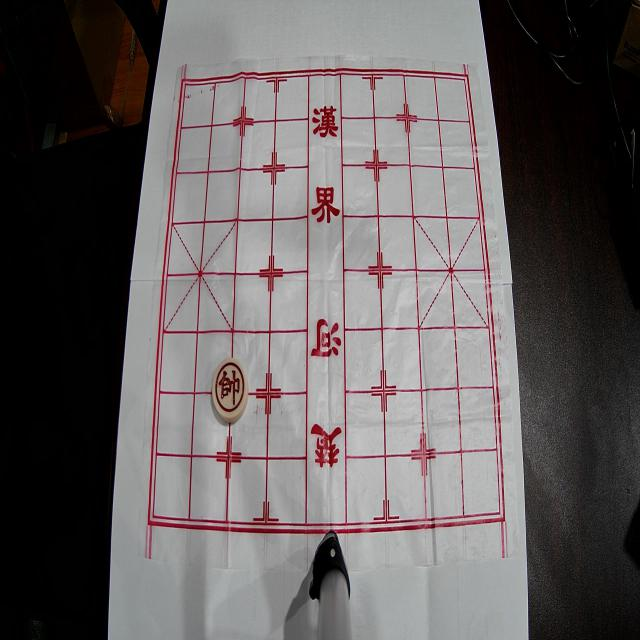red-general: (212, 358, 248, 422)
